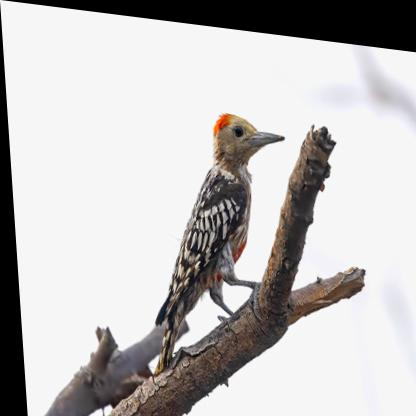Burung: (136, 99, 297, 383)
